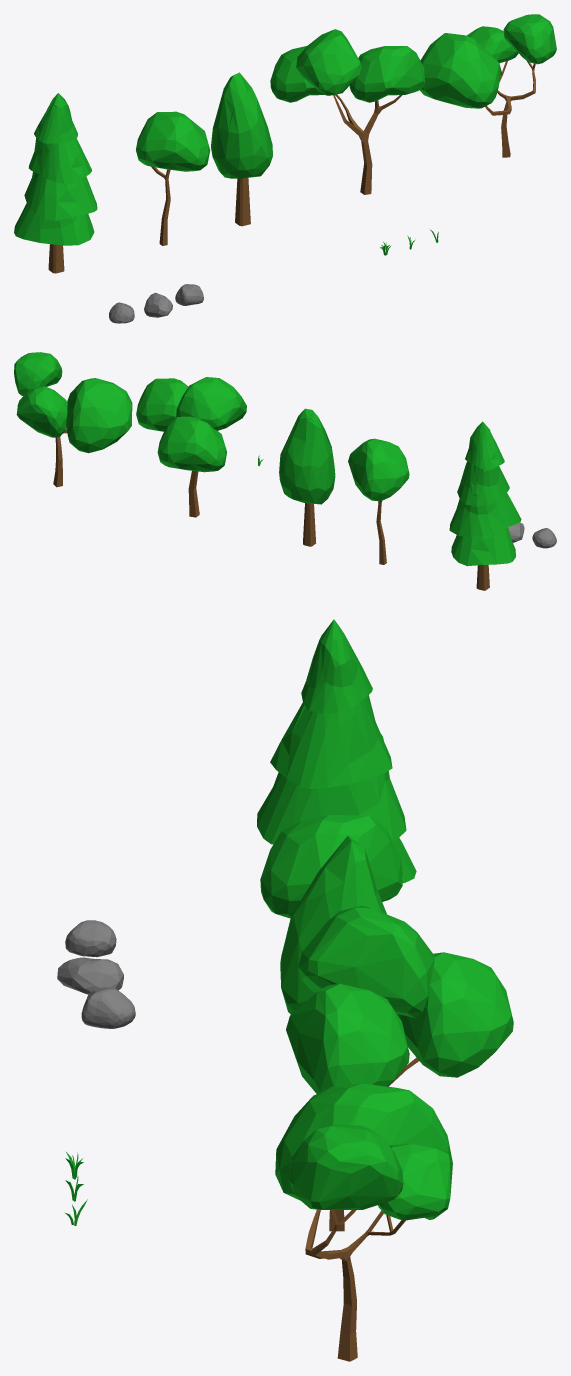
File: city2.fbx
3 views of the same model, one above another, from view 1: azimuth 30°, elevation 25°; view 2: azimuth 150°, elevation 25°; view 3: azimuth 270°, elevation 25° (orthographic). The views are drawn at different scales.
Visible parts, largest first — view 1: tree3, tree4, tree5, tree2, tree1, rock2, rock3, rock1; view 2: tree3, tree4, tree5, tree2, tree1, rock1; view 3: tree3, tree4, tree5, tree1, tree2, rock2, rock3, rock1.
Boxes of the visible parts, x1,y1,x2,y2 form: tree3: (270, 29, 425, 194); tree4: (420, 14, 556, 157); tree5: (14, 93, 97, 273); tree2: (211, 72, 272, 226); tree1: (136, 111, 210, 245); rock2: (144, 292, 172, 317); rock3: (175, 284, 203, 305); rock1: (109, 302, 134, 323); tree3: (136, 377, 246, 517); tree4: (14, 352, 132, 487); tree5: (449, 421, 521, 590); tree2: (279, 408, 335, 546); tree1: (348, 438, 409, 564); rock1: (532, 528, 556, 548); tree3: (286, 905, 513, 1231); tree4: (275, 1083, 452, 1361); tree5: (257, 619, 416, 883); tree1: (260, 815, 402, 918); tree2: (280, 836, 386, 1014); rock2: (57, 957, 123, 994); rock3: (81, 987, 135, 1028); rock1: (65, 920, 116, 957).
Bounding box in the file's own units: 939 × 310 × 375.
